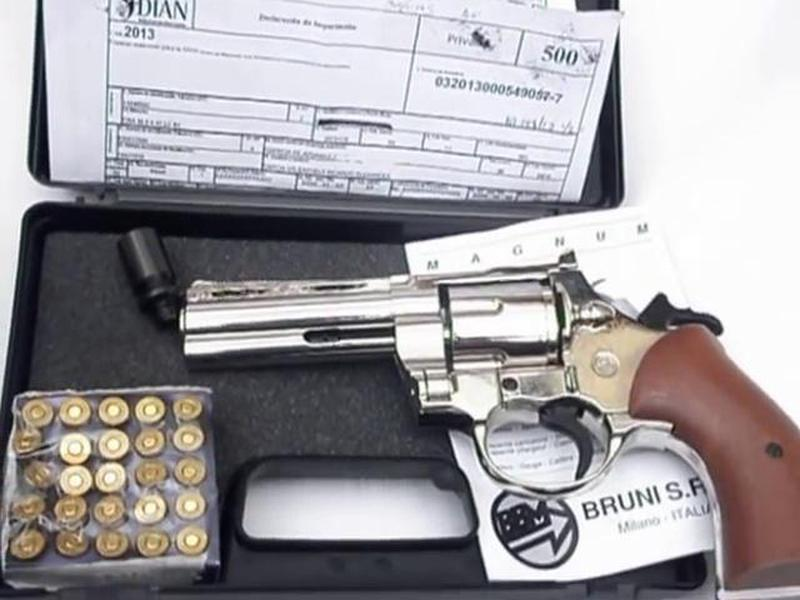Revolver: (160, 227, 741, 521)
